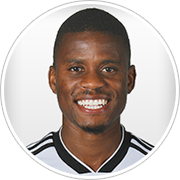face: (46, 46, 138, 120)
